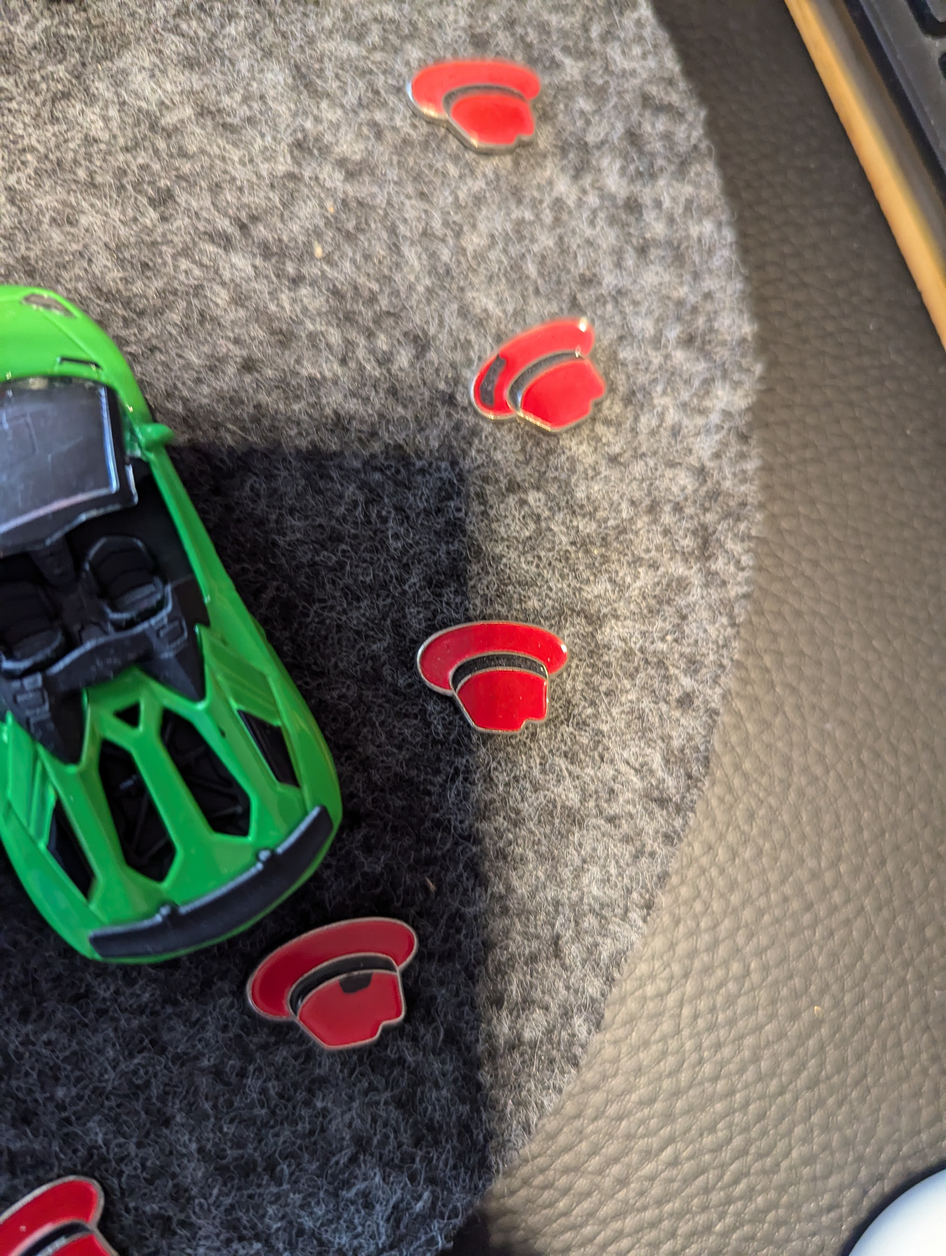Car: (0, 222, 370, 997)
Red-Hat: (230, 900, 446, 1085), (462, 271, 610, 481), (404, 606, 586, 770), (374, 44, 563, 164), (0, 1149, 154, 1256)
Scratch: (458, 335, 537, 422), (327, 968, 404, 1001)
